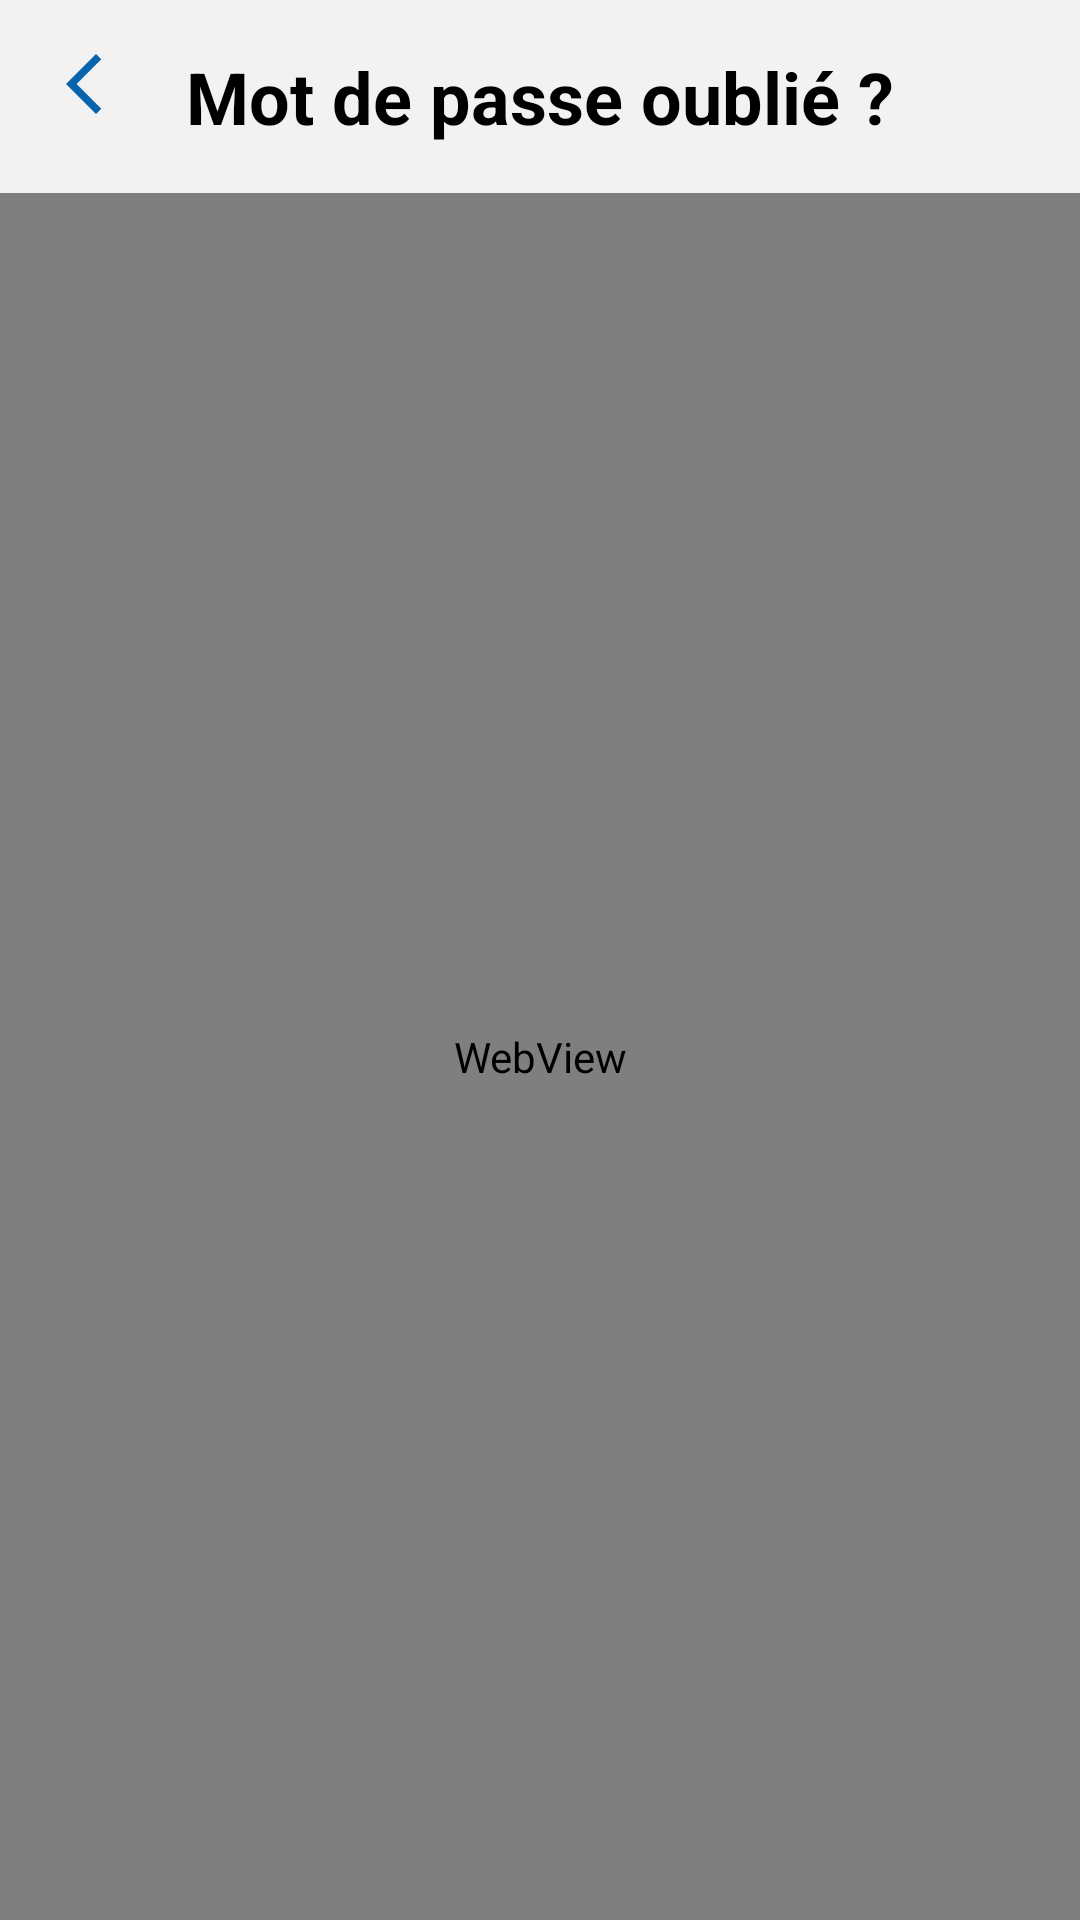

Screen size 1080px×1920px. Icon name, then its box in pixels as (left=x1, top=y1, right=x2, bottom=y2):
arrow back: (left=66, top=54, right=101, bottom=114)
